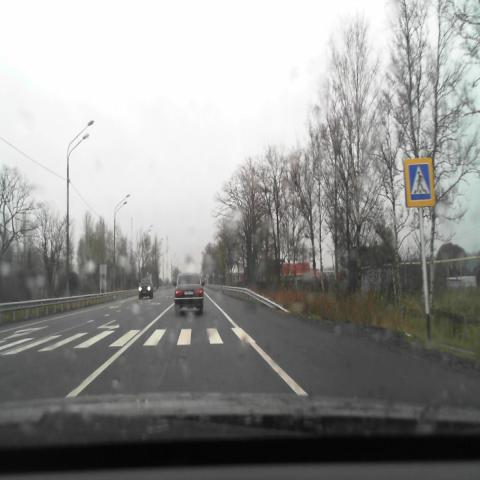5_19_1: (404, 157, 435, 207)
